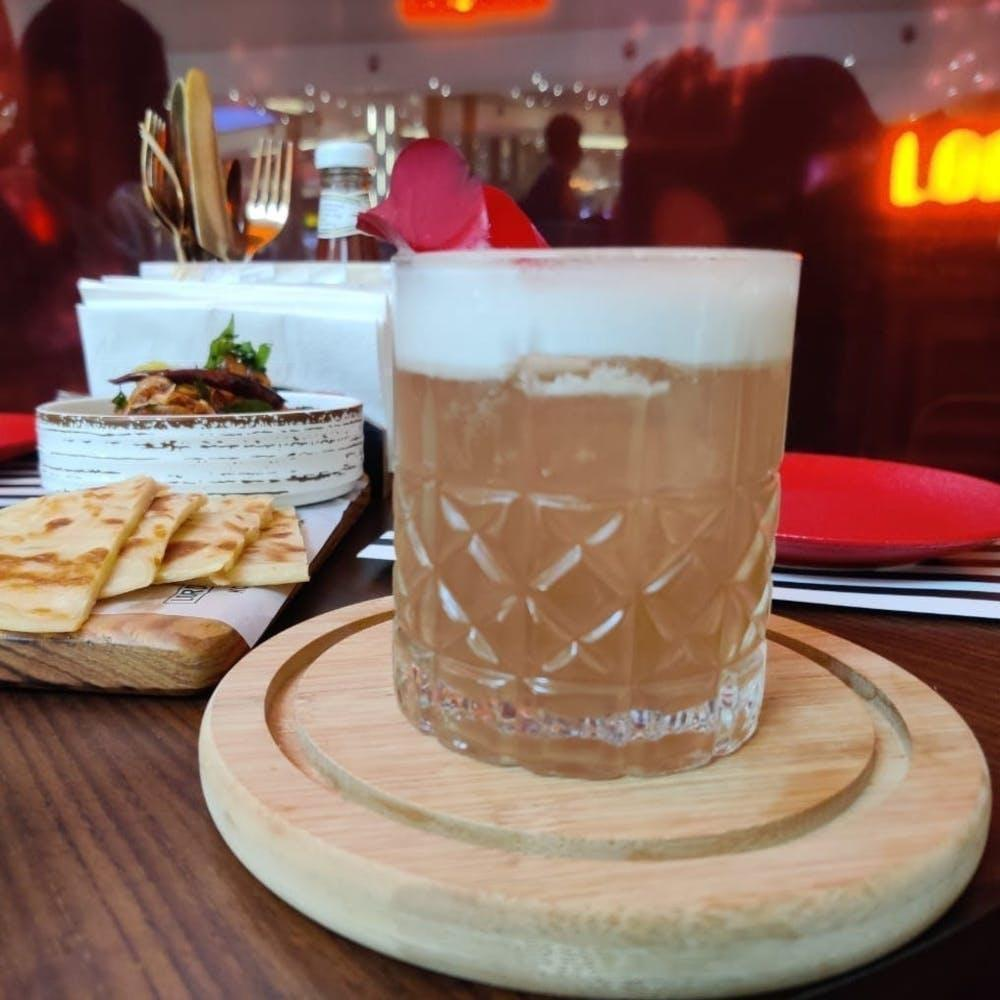glass-normal: (382, 241, 806, 781)
